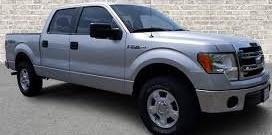Trucks: (6, 4, 270, 135)
